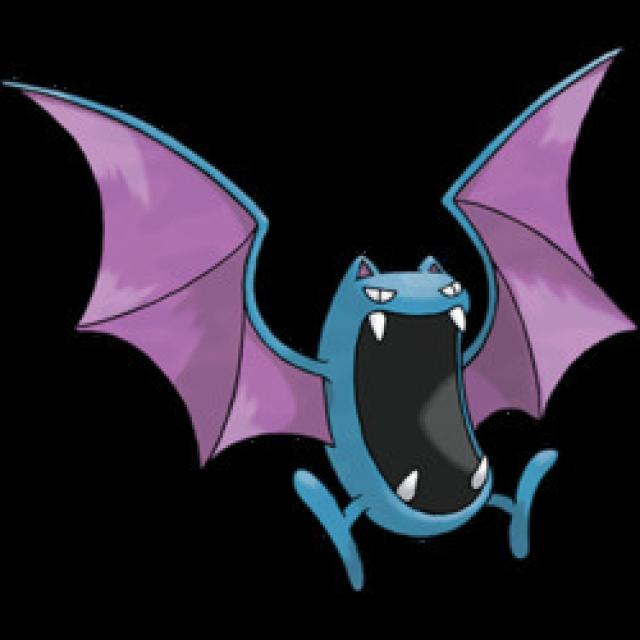Golbat: (232, 188, 565, 582)
